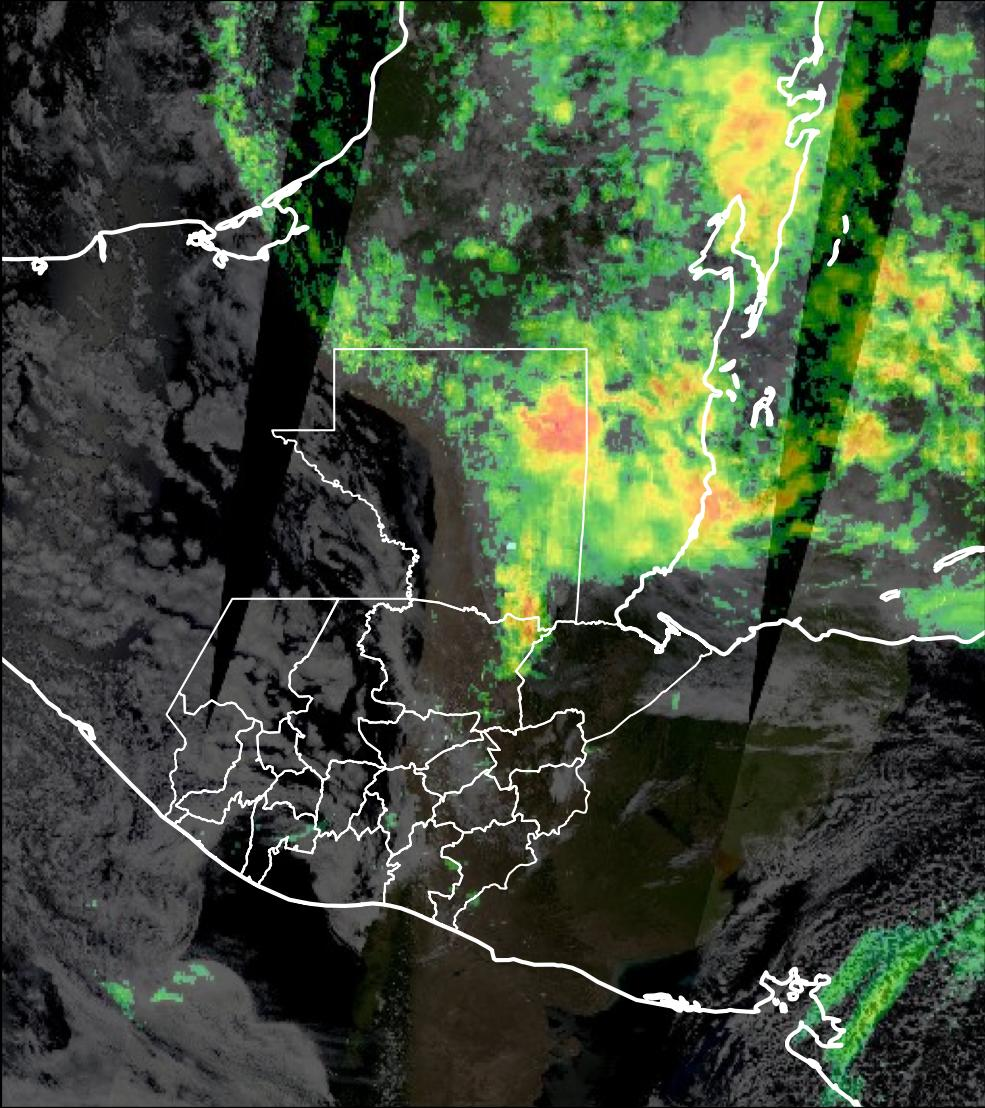precipitacion: (524, 372, 618, 490)
